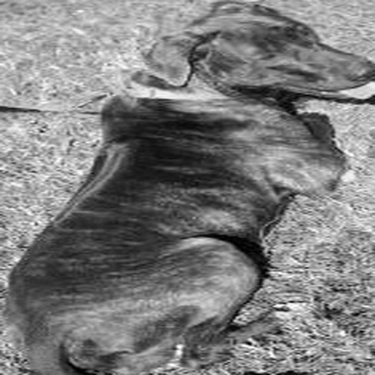dog: (3, 1, 370, 369)
